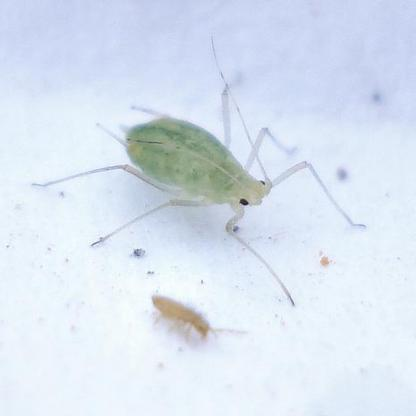aphid: (51, 62, 348, 292), (133, 278, 243, 353)
